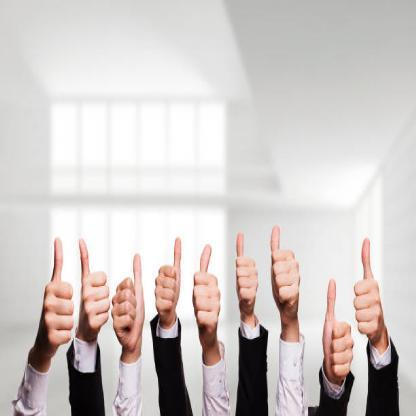thumb_up: (38, 231, 76, 356), (318, 274, 356, 382), (108, 250, 147, 354), (73, 236, 111, 339), (354, 234, 386, 345), (266, 221, 302, 314), (190, 242, 224, 340), (152, 233, 184, 320), (233, 228, 260, 312)
